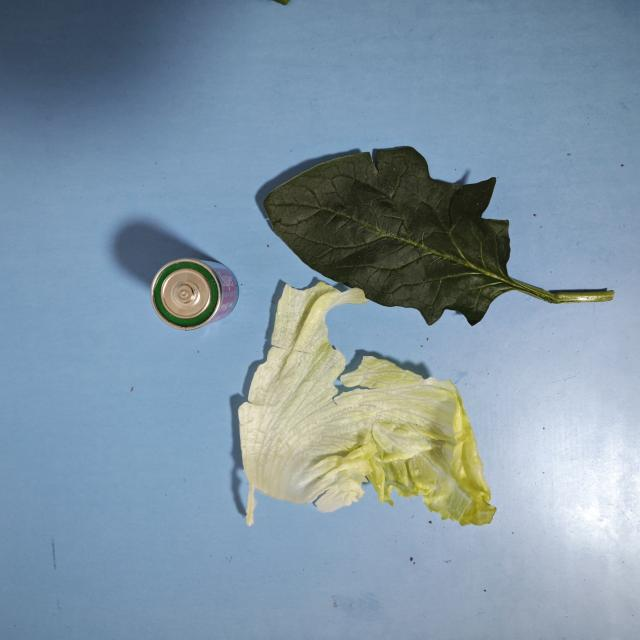-Hazardous waste - battery-: (148, 256, 241, 334)
-Kitchen waste - vegetable roots and leaves-: (259, 142, 626, 323), (234, 280, 496, 532)
